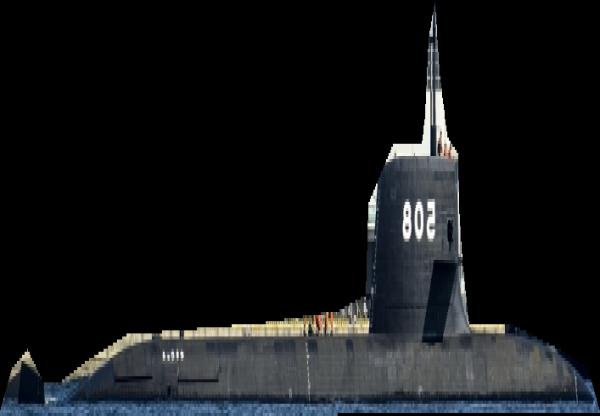Submarine: (0, 2, 600, 416)
